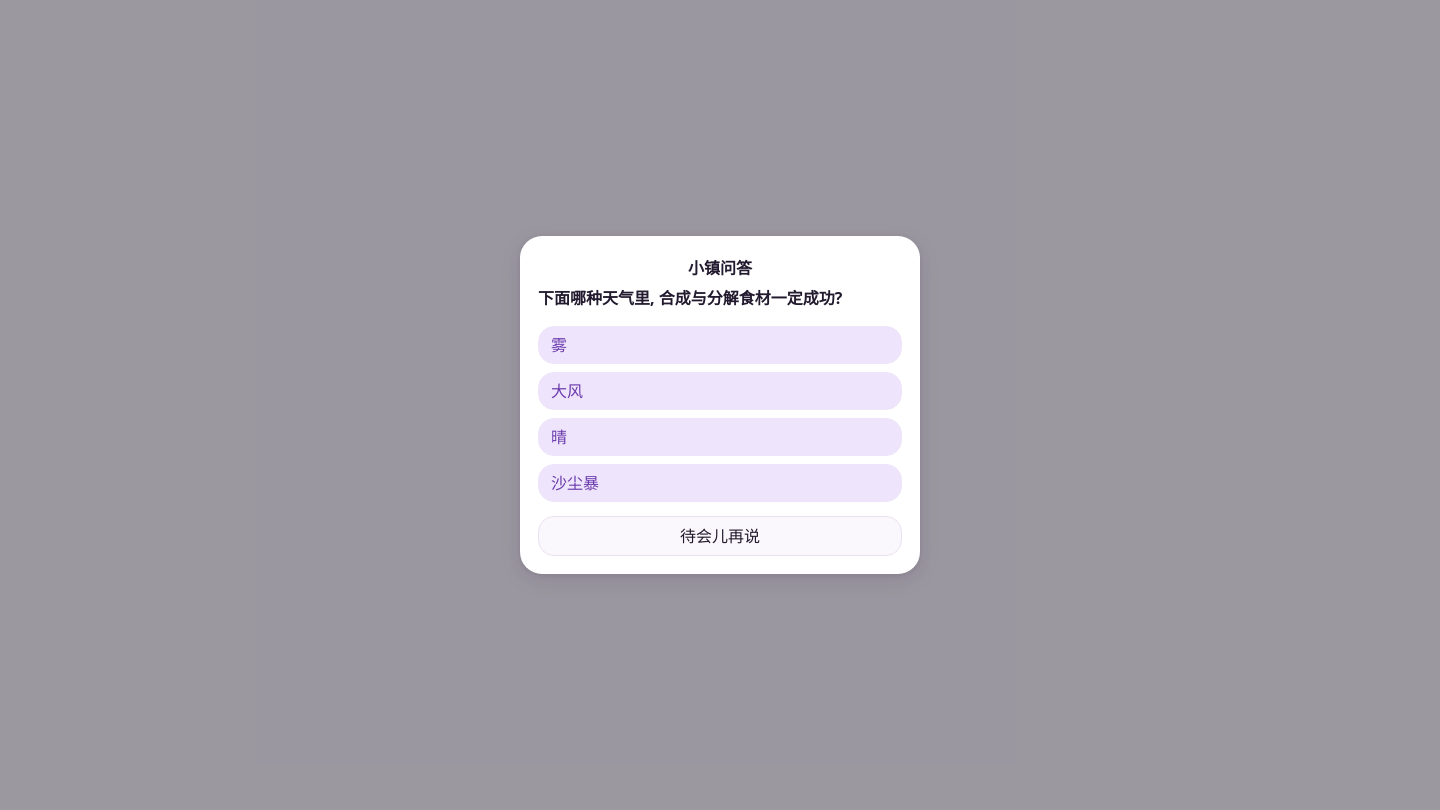
Test: RandomEventPopup（随机事件，设计稿 2026-10-28 §10） › 问答: 标题写“小镇问答”；答完标出对错和解说
The image size is (1440, 810).
Click the button with test id "random-event-choice" showing "大风" at (567, 391), box x1=538 y1=372 x2=902 y2=410
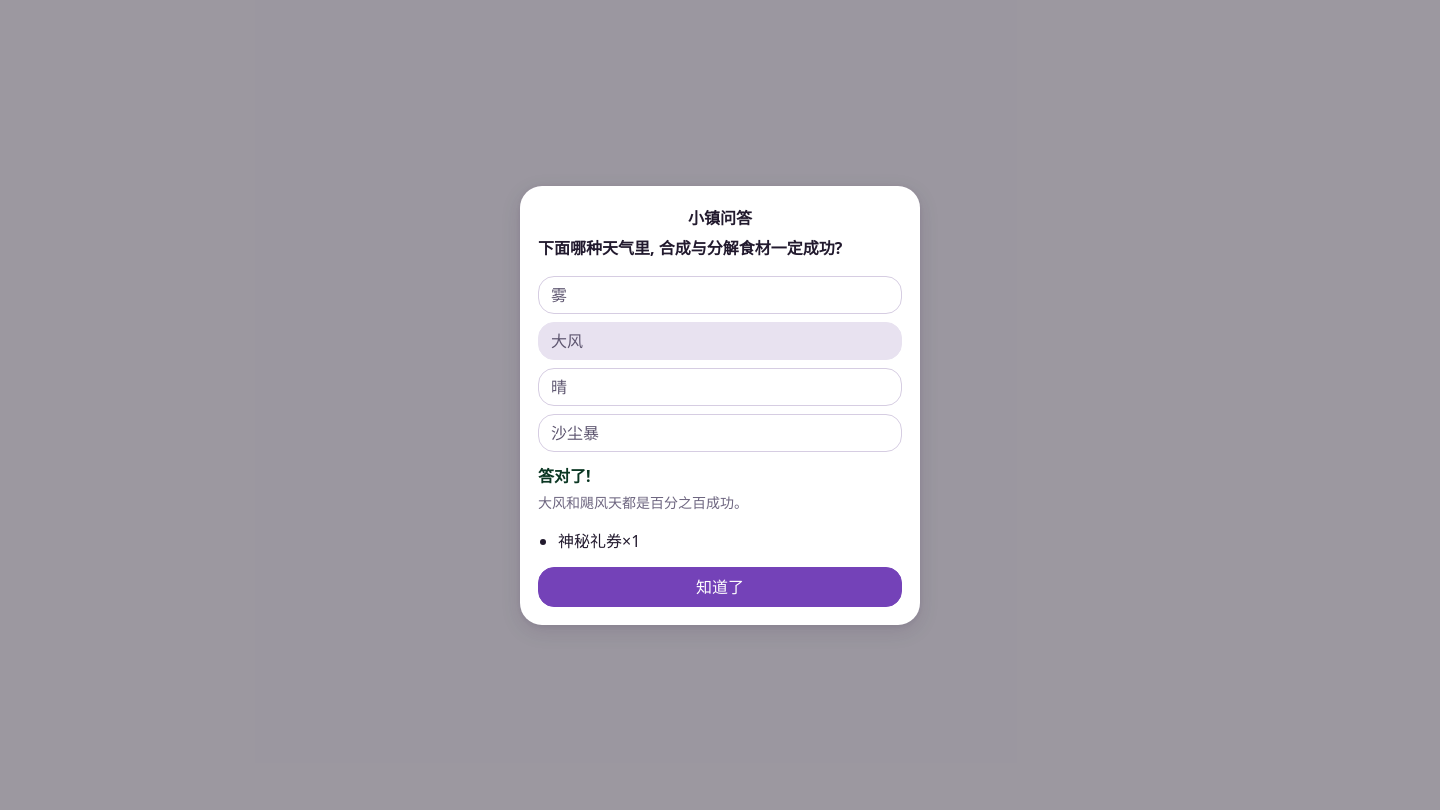
Expected: the text "答对了!" is shown, x1=538 y1=464 x2=591 y2=486
Expected: the text "百分之百" is shown, x1=538 y1=492 x2=748 y2=512
